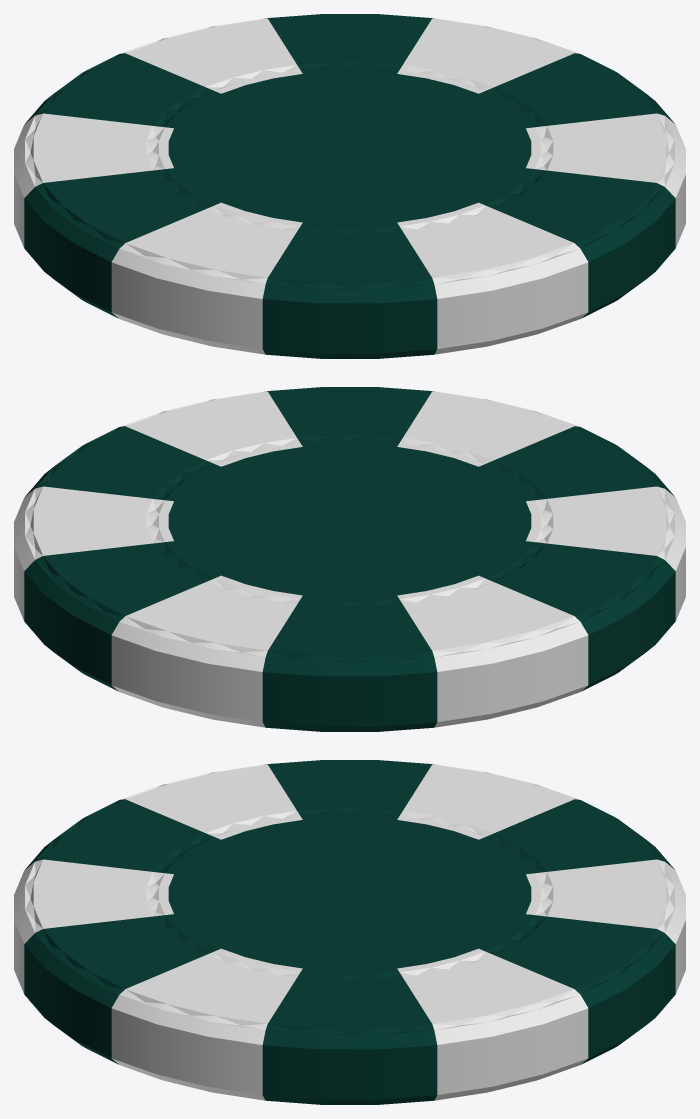
File: poker_chip.glb
3 views of the same model, one above another, from view 1: azimuth 30°, elevation 25°; view 2: azimuth 150°, elevation 25°; view 3: azimuth 270°, elevation 25° (orthographic).
Visible parts, largest first — view 1: poker_chip; view 2: poker_chip; view 3: poker_chip.
Boxes of the visible parts, x1,y1,x2,y2 form: poker_chip: (14,14,685,358); poker_chip: (14,387,685,731); poker_chip: (14,760,685,1104).
Bounding box in the file's own units: 1.99 × 0.2505 × 1.99.
